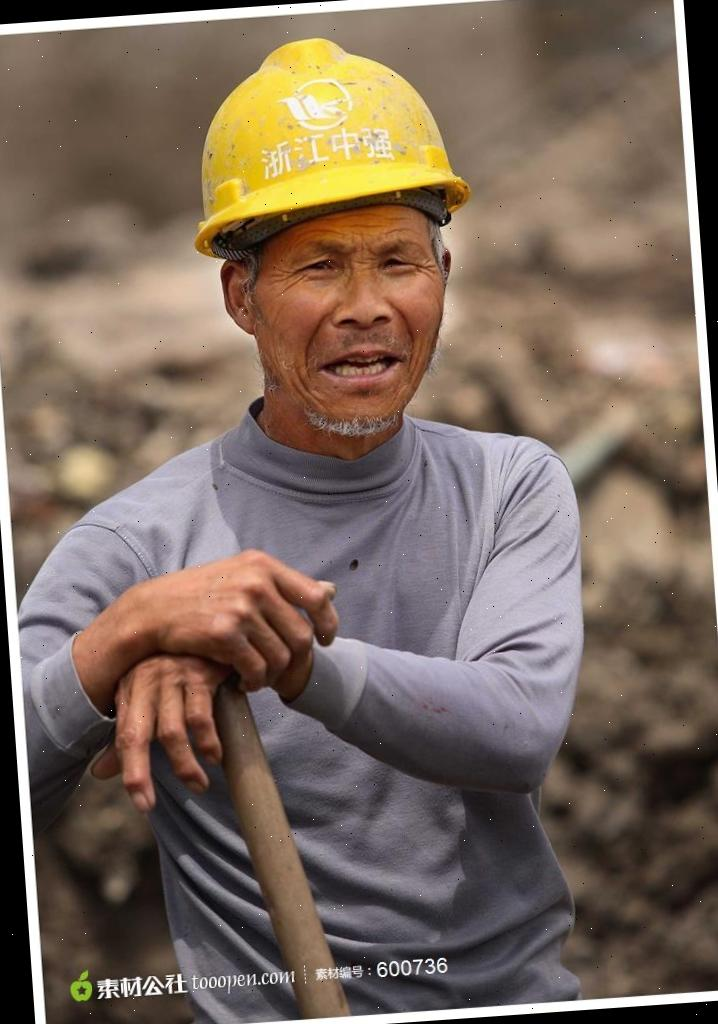helmet: (172, 24, 475, 258)
no_wear: (116, 438, 584, 994)
